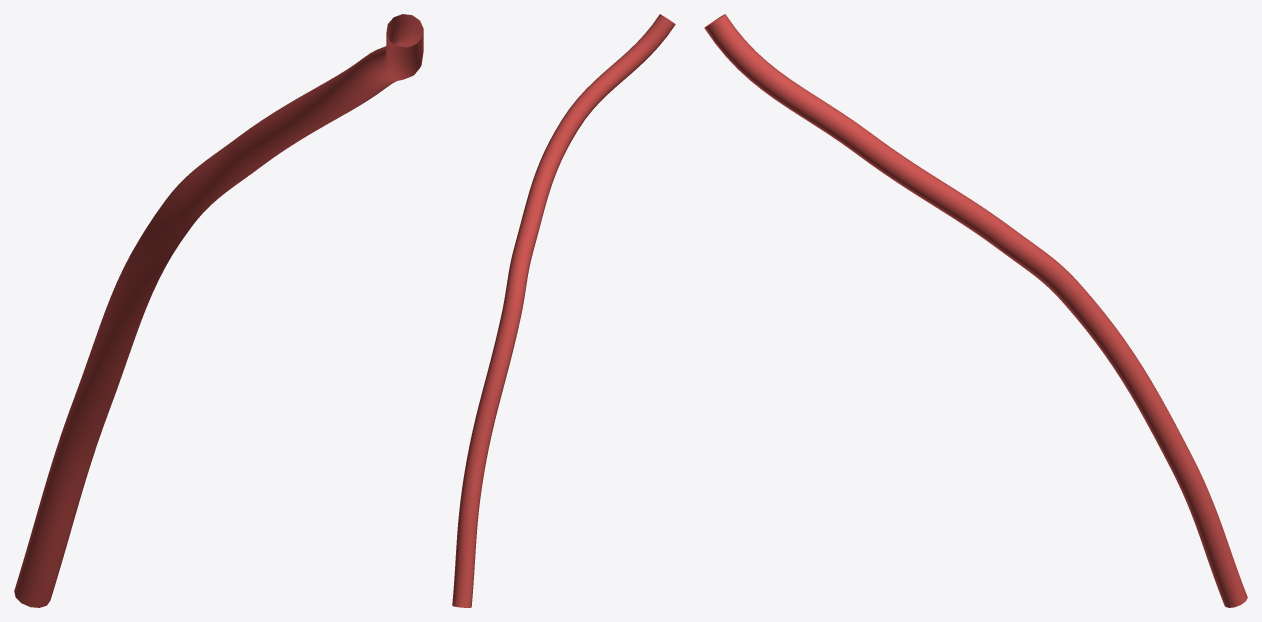
3 views of the same model, side by side, from view 1: azimuth 30°, elevation 25°; view 2: azimuth 150°, elevation 25°; view 3: azimuth 270°, elevation 25° (orthographic). The views are drawn at different scales.
Visible parts, largest first — view 1: 右侧颊动脉; view 2: 右侧颊动脉; view 3: 右侧颊动脉.
Part boxes in pixels (box(x1,y1,x2,y2)): 右侧颊动脉: box(14, 14, 423, 607); 右侧颊动脉: box(452, 14, 675, 607); 右侧颊动脉: box(704, 14, 1247, 607).
Size of the model in its own units: 0.00716 by 0.0524 by 0.044.
